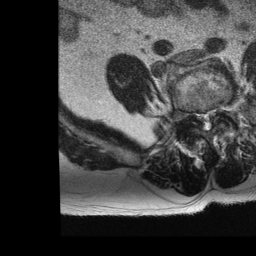CCS_normal: (201, 103, 208, 137)
LFS_normal: (215, 99, 223, 121)
LLS_normal: (208, 102, 215, 127)
RFS_stenosis: (188, 104, 195, 124)
RLS_stenosis: (195, 105, 201, 127)
